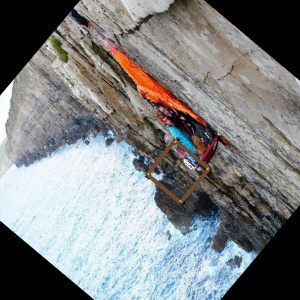square: (143, 135, 213, 207)
